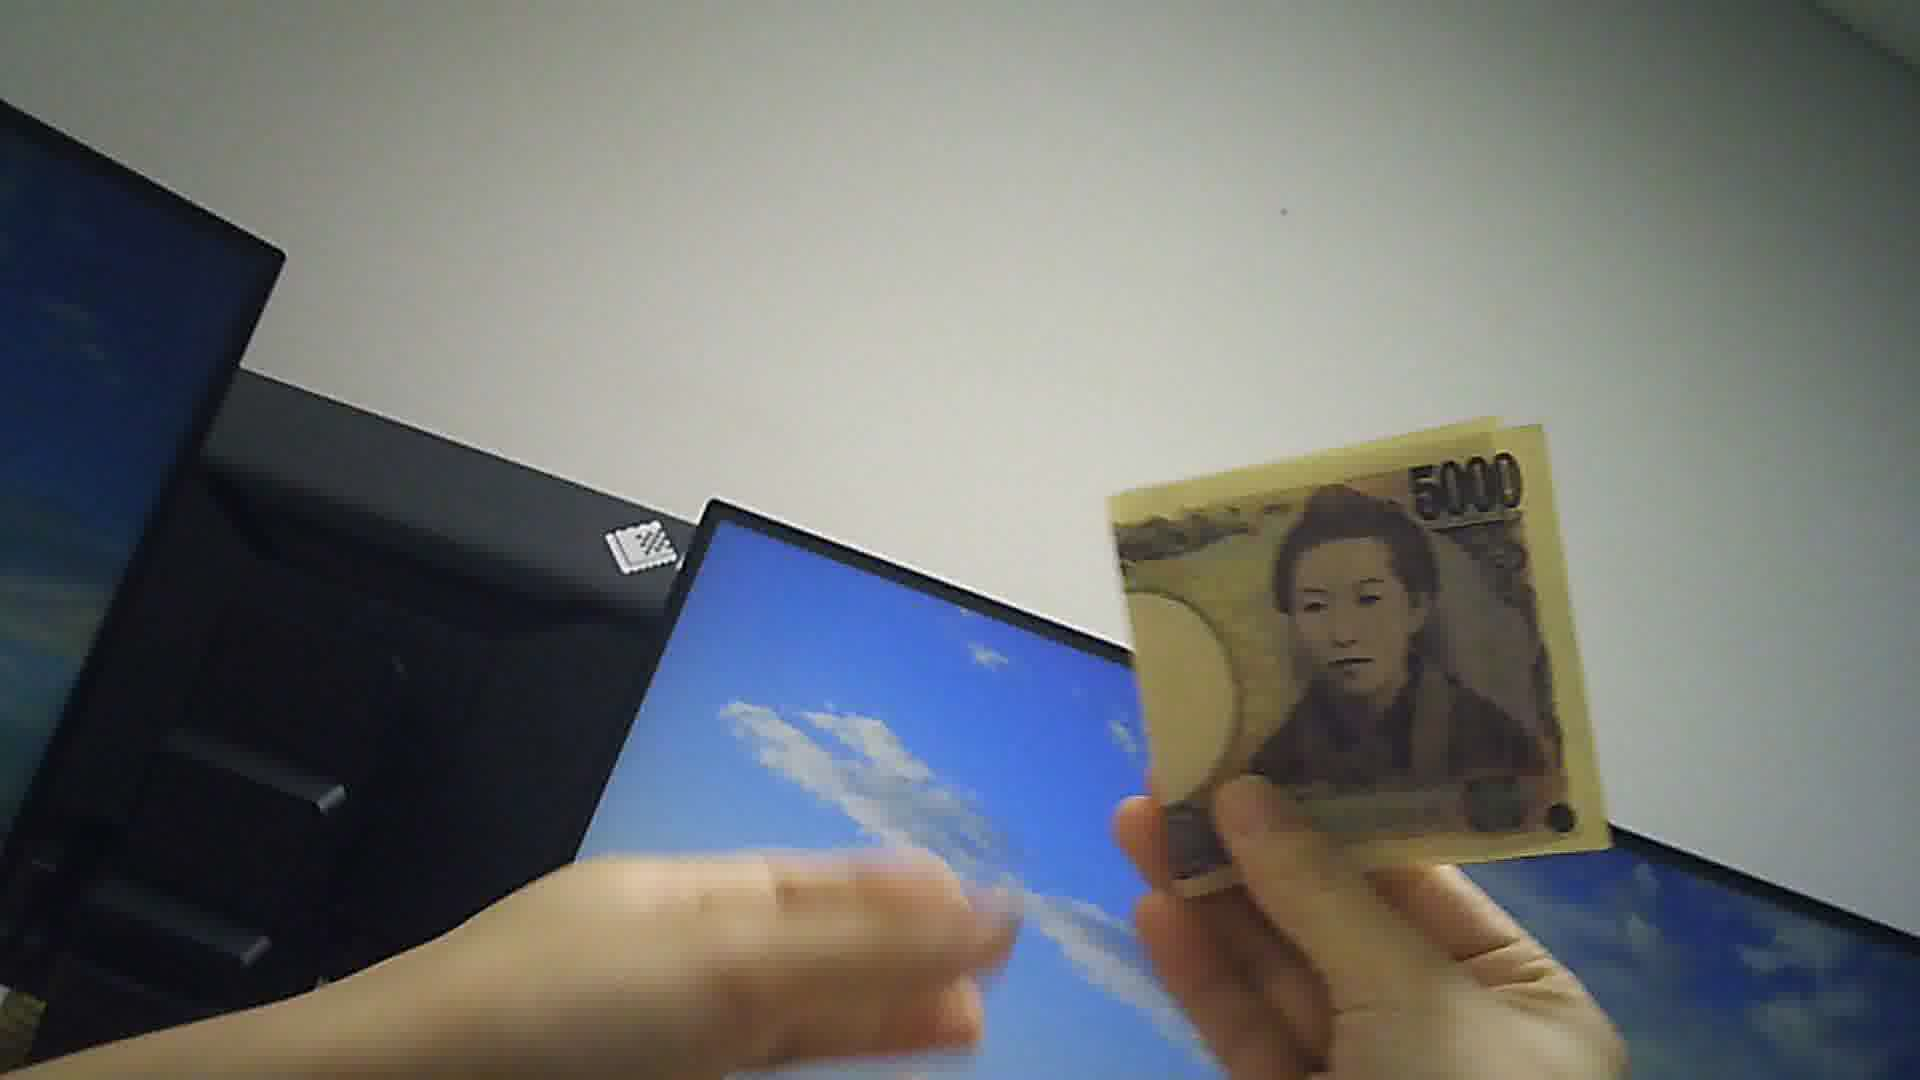5,000 Yen: (1109, 414, 1629, 895)
